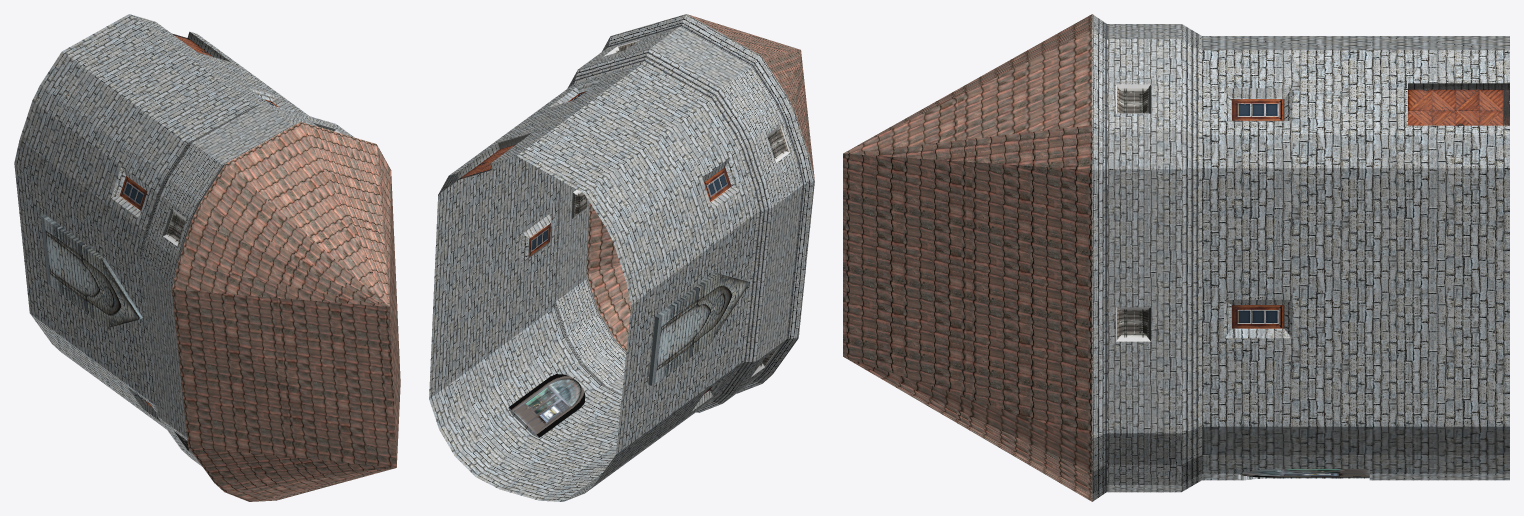
The model's file is Viru26a.obj.
3 renders of one model, left to right at view 1: azimuth 30°, elevation 25°; view 2: azimuth 150°, elevation 25°; view 3: azimuth 270°, elevation 25°, orthographic. The views are drawn at different scales.
Visible parts, largest first — view 1: Viru26a; view 2: Viru26a; view 3: Viru26a.
Part boxes in pixels (x1,y1,x2,y2): Viru26a: [14, 14, 400, 501]; Viru26a: [429, 14, 814, 501]; Viru26a: [843, 14, 1509, 501].
Size of the model in its own units: 6.24 by 9.72 by 12.88.
